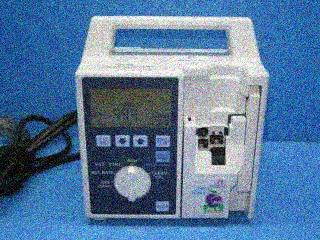plumxl1: (75, 16, 269, 227)
